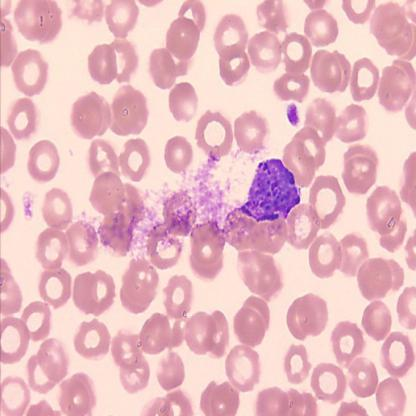Basophil: (242, 154, 303, 228)
